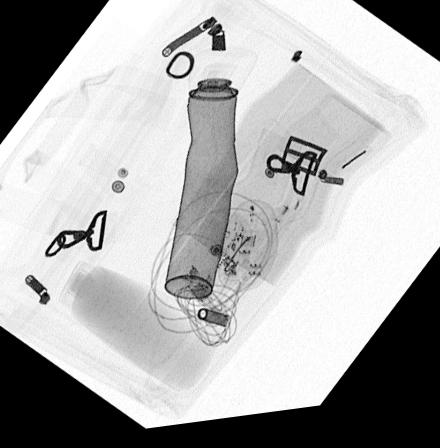Sprayer: (160, 51, 258, 308)
